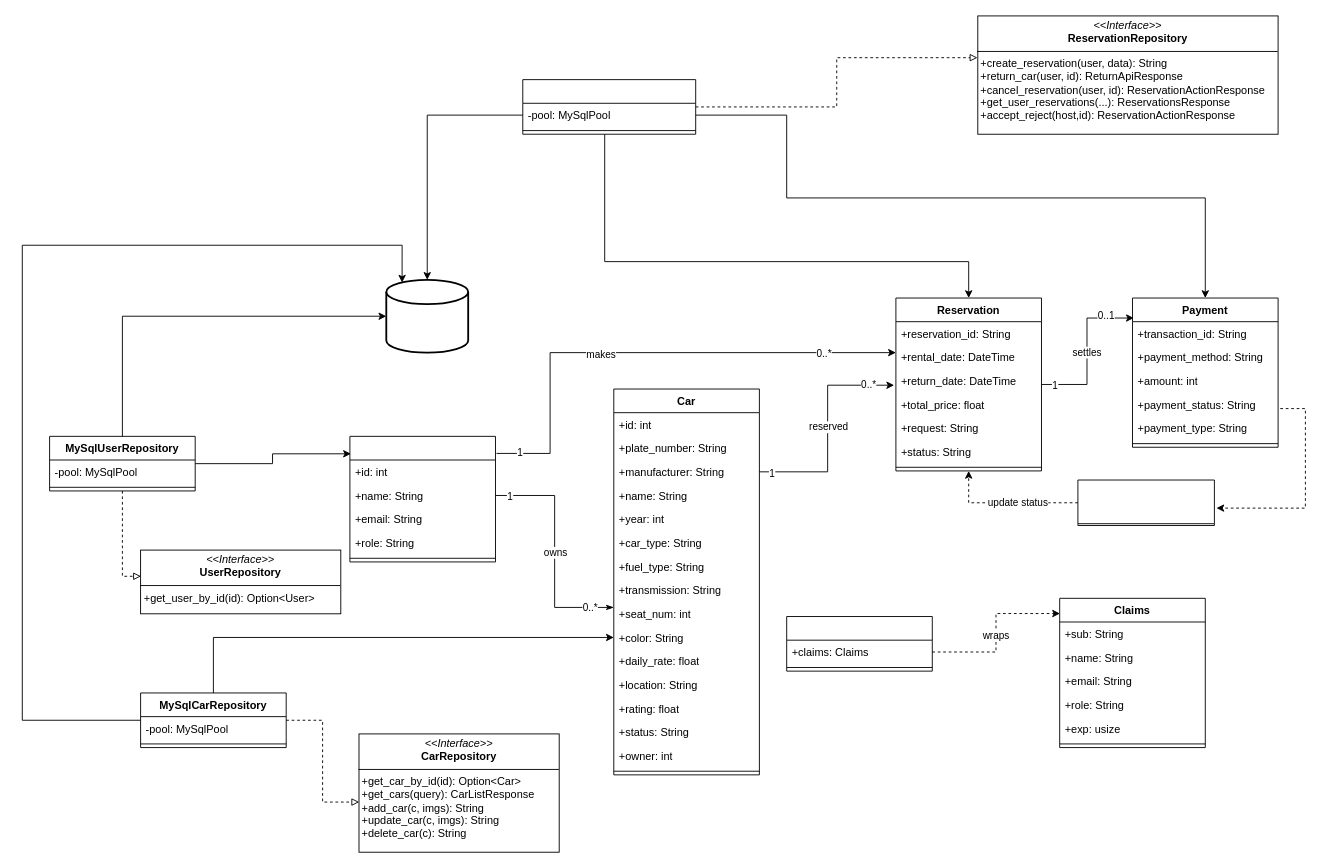
Some shapes in this 1329 by 868 pixel diagram are drawn without their labels. Each missing label, with the box of its shape:
<<static>> PaymentService: (1077, 479, 1214, 526)
AuthToken: (786, 616, 932, 671)
MySqlPool: (385, 278, 469, 353)
MySqlReservationRepository: (522, 79, 696, 134)
User: (349, 435, 495, 562)
